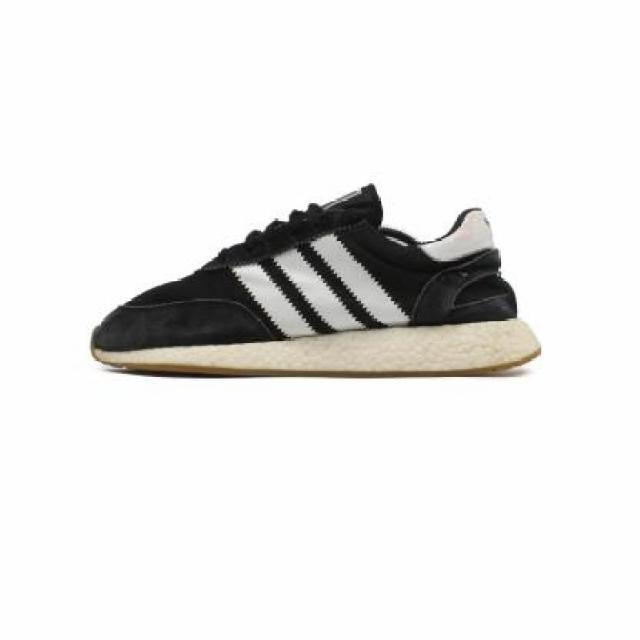Adidas: (231, 228, 414, 344)
